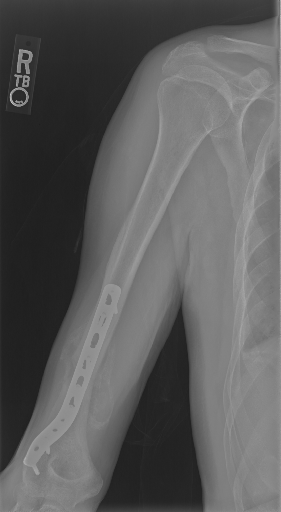implant: (24, 281, 125, 475)
